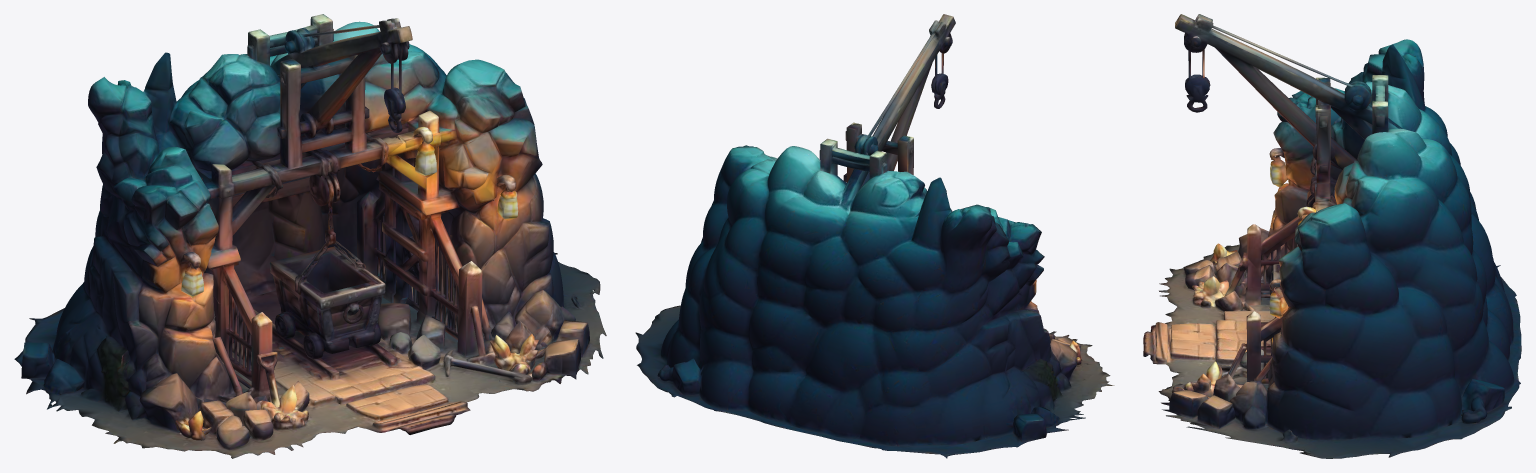
Rendered from TorreMina.glb.
3 views of the same model, side by side, from view 1: azimuth 30°, elevation 25°; view 2: azimuth 150°, elevation 25°; view 3: azimuth 270°, elevation 25° (orthographic). The views are drawn at different scales.
Parts seen in each view (by area): view 1: material; view 2: material; view 3: material.
Boxes of the visible parts, <box> form: material: <box>14,14,606,458</box>; material: <box>635,14,1114,458</box>; material: <box>1143,14,1521,458</box>.
Bounding box in the file's own units: 0.9928 × 0.6725 × 0.6985.
Materials: 1 (1 with a texture image).
